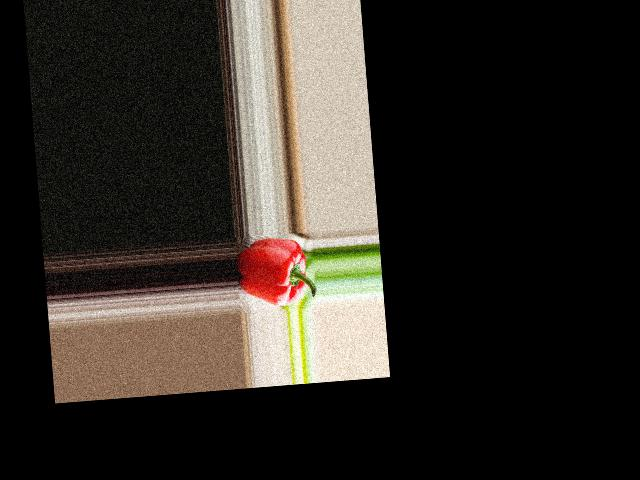bell_pepper: (234, 236, 315, 310)
